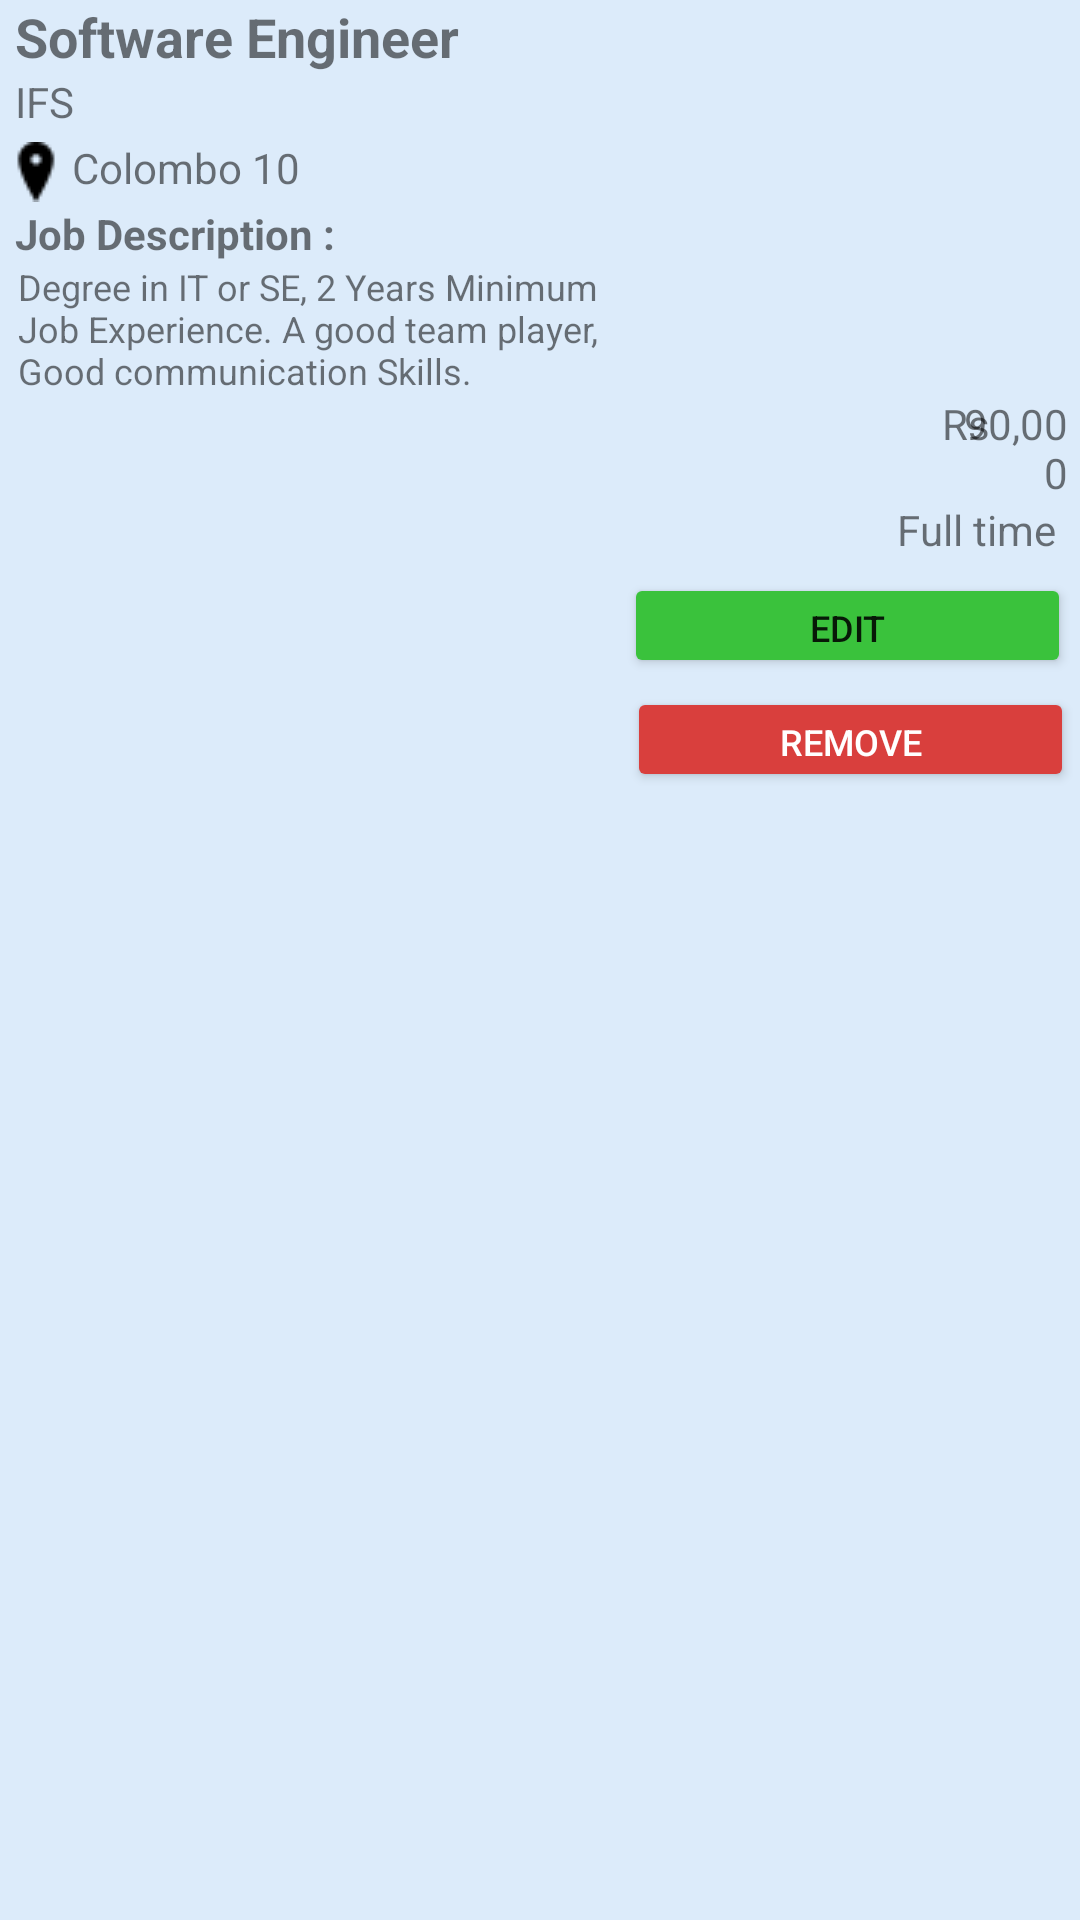

Named icons in this screenshot (1080×1920) and their bounding boxes, [x1,y1,x2,y2]:
location: [17,142,55,202]
